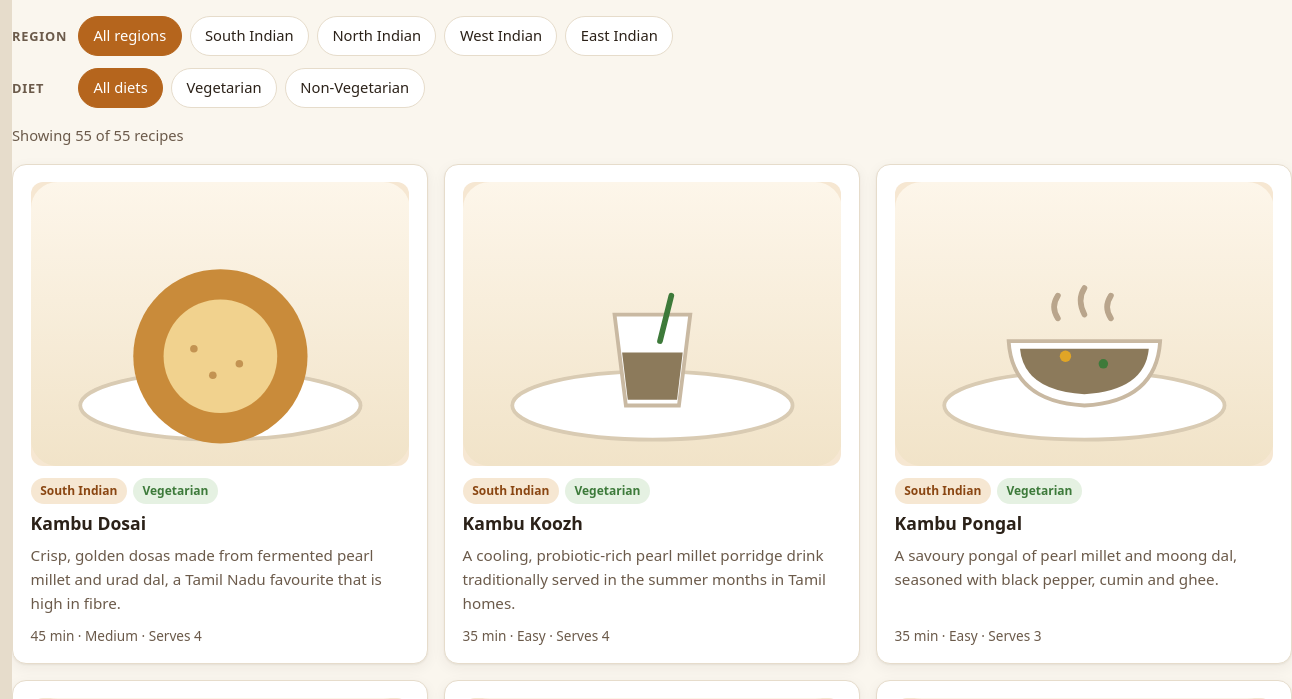
RecipeBrowser › marks the active filter with aria-pressed and restores all recipes on 'All diets'
This screenshot has width=1292, height=699.
Later steps or results of the test are not shown.
Click the button "Vegetarian". click: (224, 88)
box: [171,68,277,108]
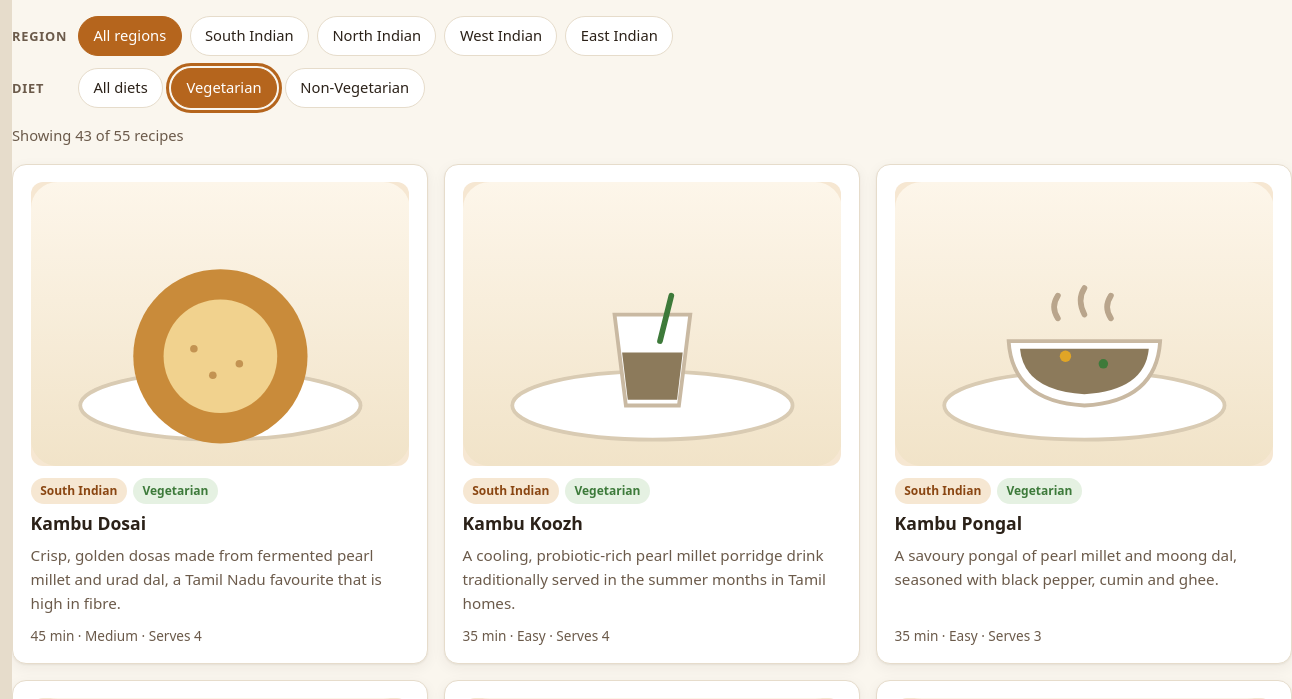
Check: the button "Vegetarian" is pressed, box [171,68,277,108]
